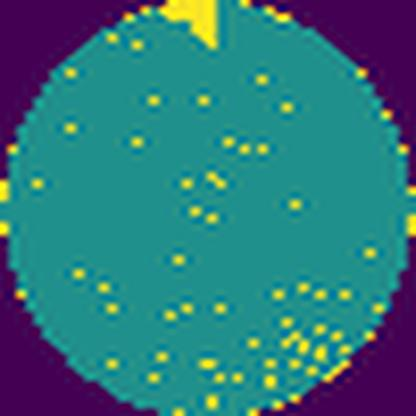Edge-Loc: (152, 0, 227, 55)
